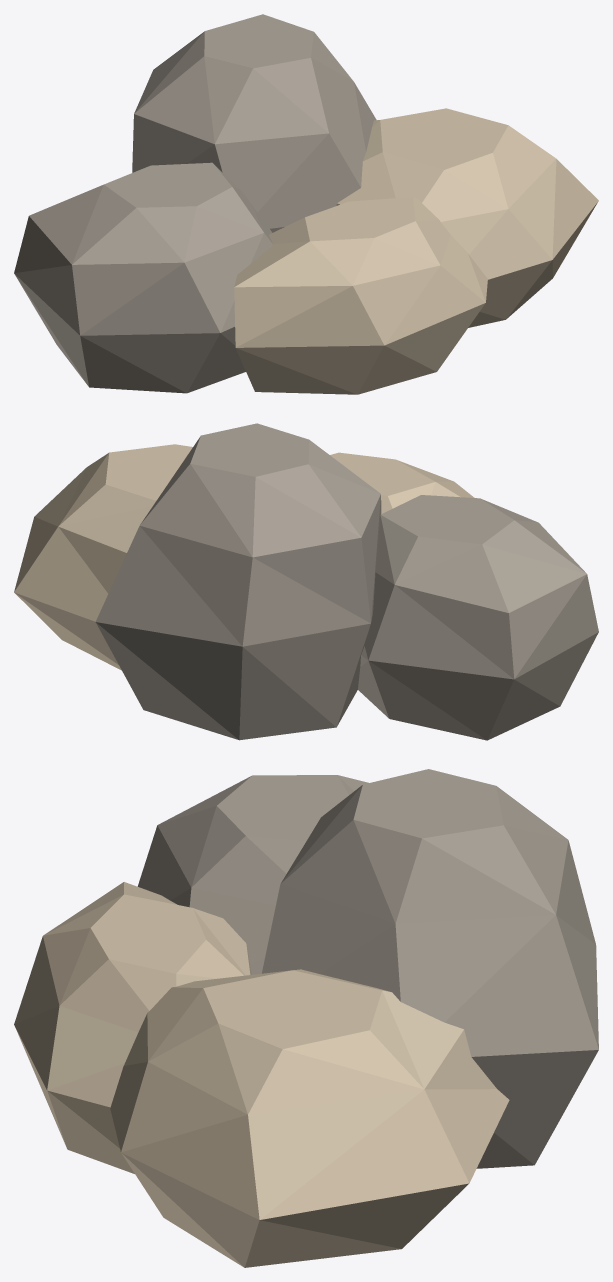
File: rock_cluster_b.fbx
3 views of the same model, one above another, from view 1: azimuth 30°, elevation 25°; view 2: azimuth 150°, elevation 25°; view 3: azimuth 270°, elevation 25° (orthographic). The views are drawn at different scales.
Parts seen in each view (by area): view 1: rock_cluster_b; view 2: rock_cluster_b; view 3: rock_cluster_b.
Boxes of the visible parts, x1,y1,x2,y2 form: rock_cluster_b: (14,14,598,394); rock_cluster_b: (14,423,598,740); rock_cluster_b: (14,769,598,1267).
Size of the model in its own units: 7 by 3 by 5.
